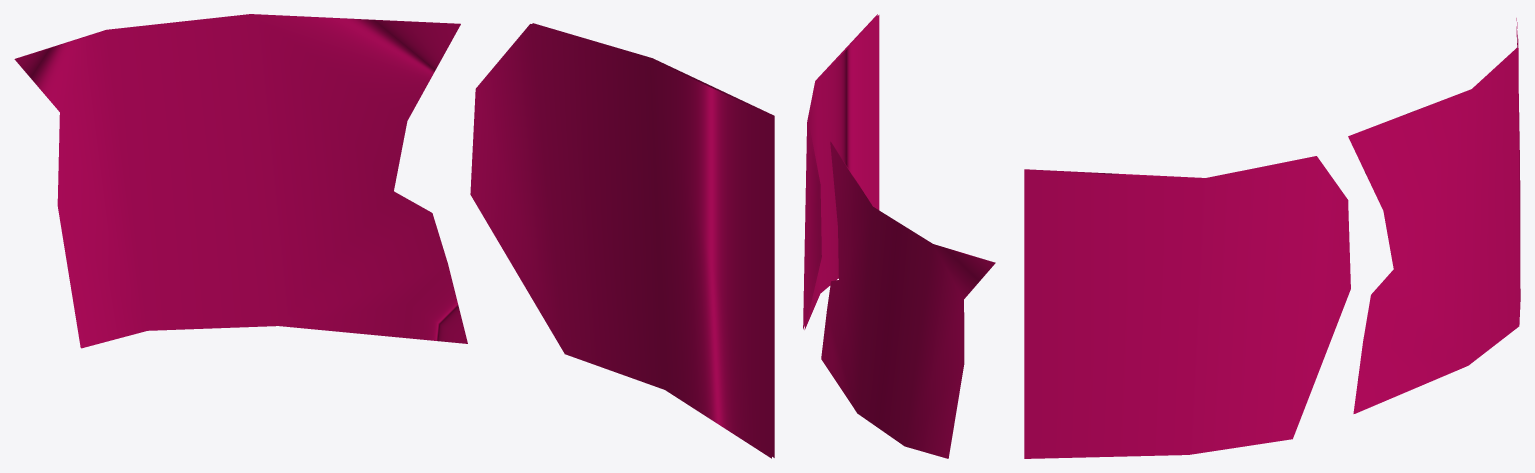
File: Fence_03_Break_03_Grid.fbx
The picture shows the model from 3 angles, left to right: view 1: azimuth 30°, elevation 25°; view 2: azimuth 150°, elevation 25°; view 3: azimuth 270°, elevation 25°; orthographic projection. The views are drawn at different scales.
Parts seen in each view (by area): view 1: Fence_03_Break_03_Grid; view 2: Fence_03_Break_03_Grid; view 3: Fence_03_Break_03_Grid.
Part boxes in pixels (x1,y1,x2,y2): Fence_03_Break_03_Grid: [14, 14, 774, 458]; Fence_03_Break_03_Grid: [803, 14, 995, 458]; Fence_03_Break_03_Grid: [1024, 18, 1520, 458].
Bounding box in the file's own units: 366 × 262 × 399.
